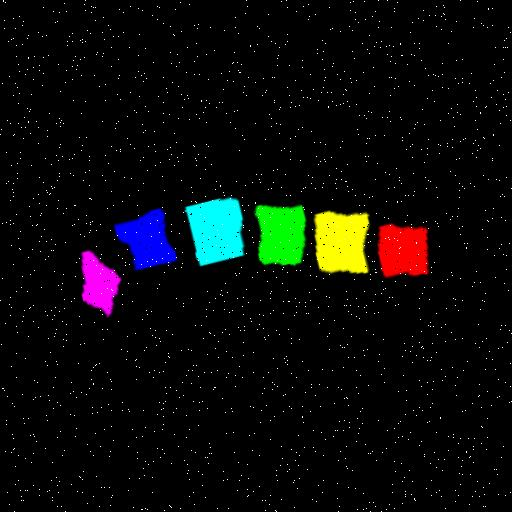L1: (378, 221, 429, 275)
L2: (315, 209, 370, 271)
L3: (254, 204, 306, 264)
L4: (186, 196, 243, 264)
L5: (115, 207, 178, 269)
S1: (81, 250, 122, 314)
